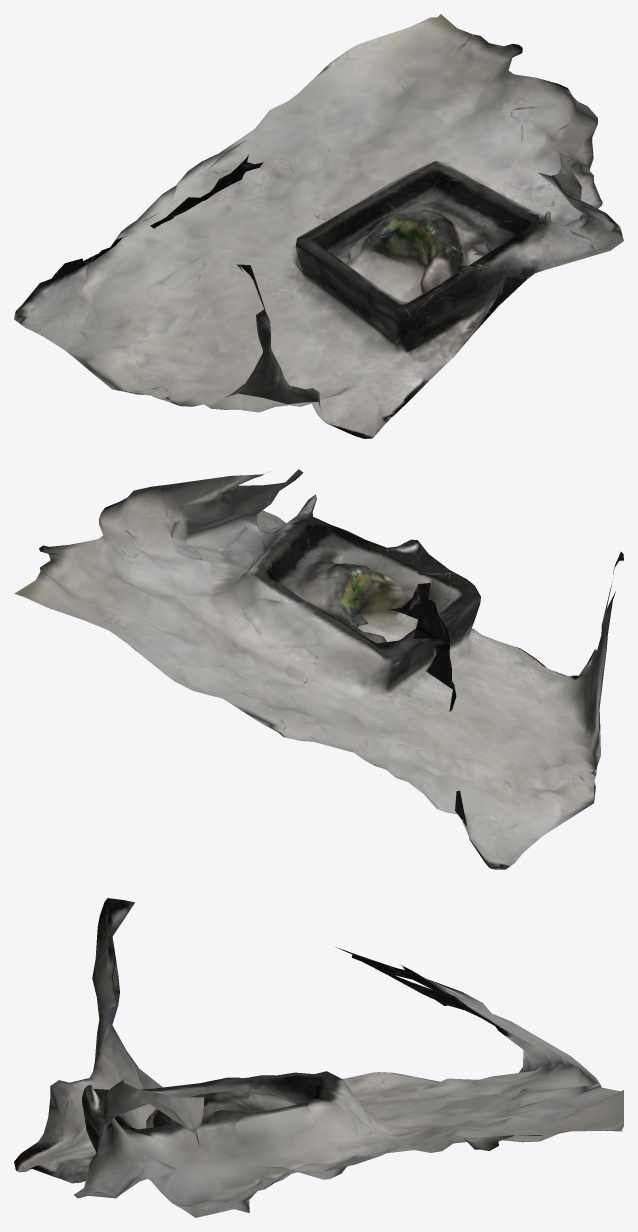
The model's file is hall.glb.
3 renders of one model, top to bottom at view 1: azimuth 30°, elevation 25°; view 2: azimuth 150°, elevation 25°; view 3: azimuth 270°, elevation 25°, orthographic. The views are drawn at different scales.
Bounding box in the file's own units: 1.49 × 0.5377 × 1.27.
1 material, 1 textured.
